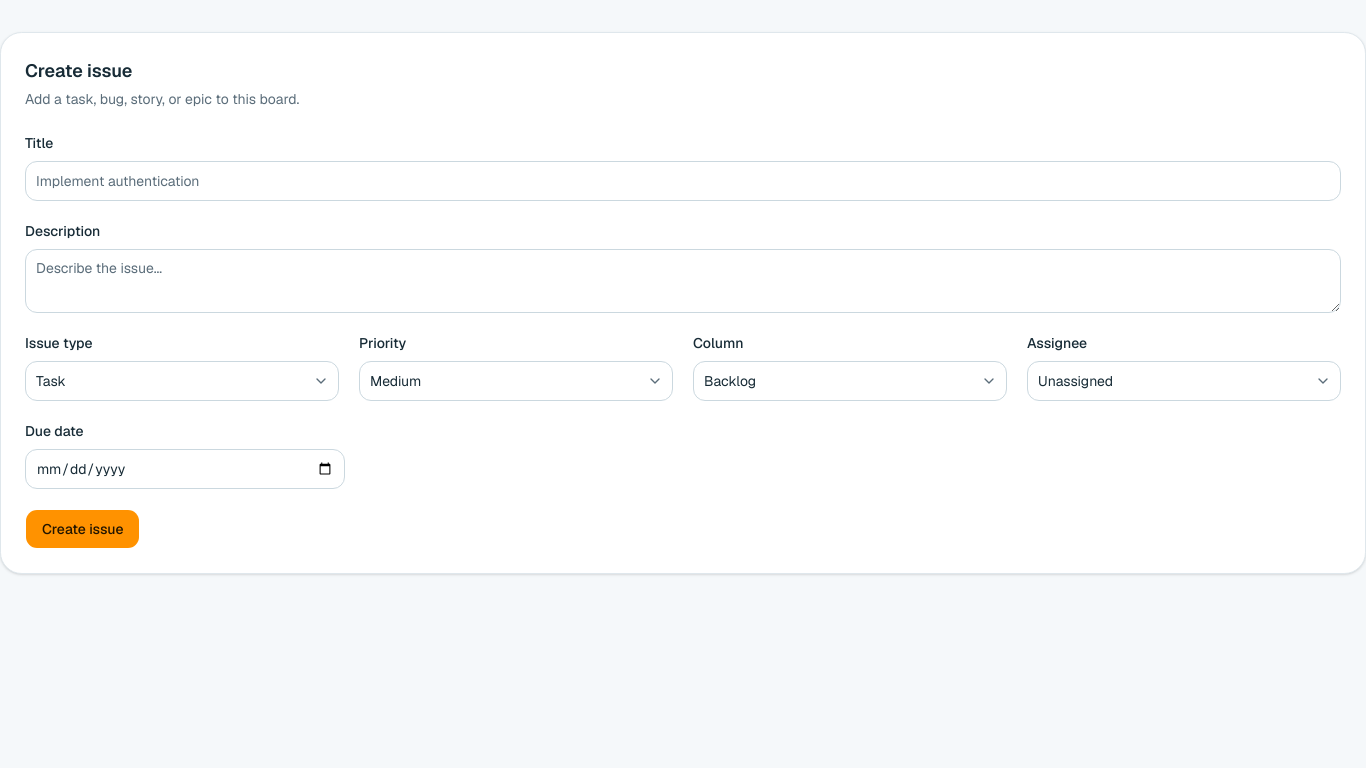
Test: CreateTaskForm › validates an empty title
Click the button "Create issue".
click(83, 529)  # box [25,509,140,549]
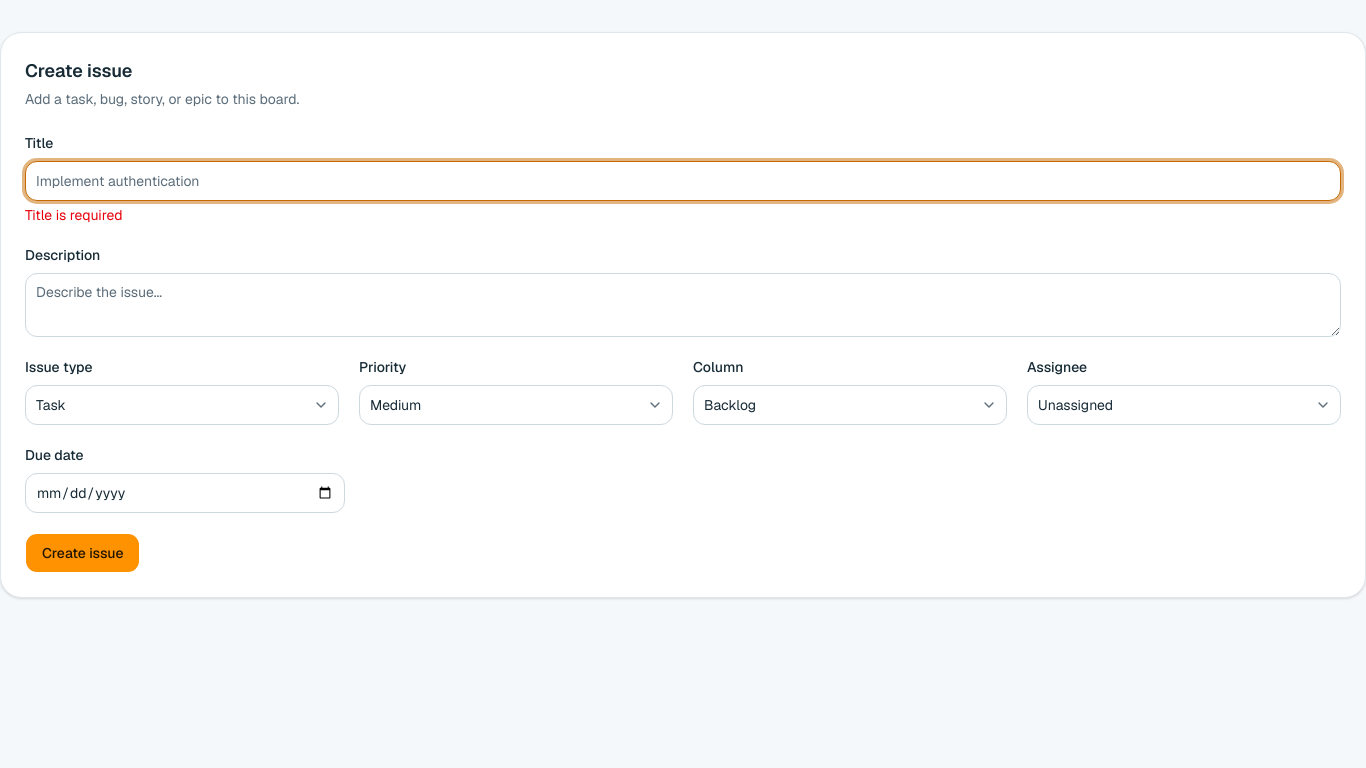
Check: the text "Title is required" is shown, box [25,206,123,224]
